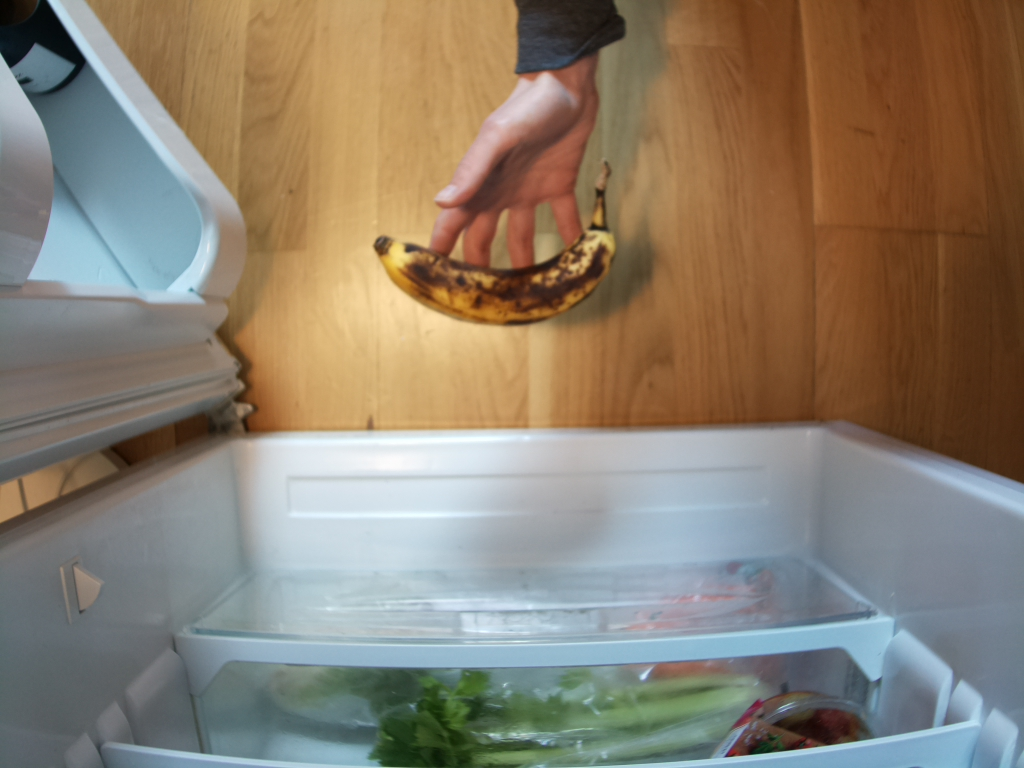banana-overripe: (370, 163, 617, 326)
